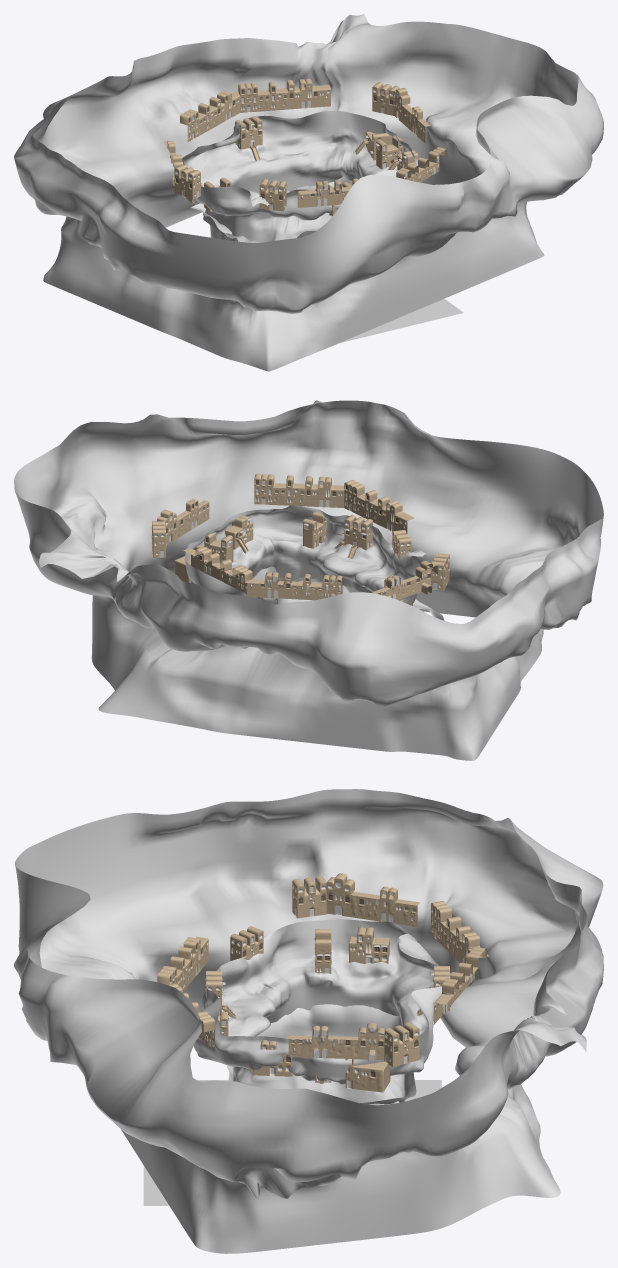
File: Adobe_02.fbx
3 views of the same model, one above another, from view 1: azimuth 30°, elevation 25°; view 2: azimuth 150°, elevation 25°; view 3: azimuth 270°, elevation 25° (orthographic). The views are drawn at different scales.
Parts seen in each view (by area): view 1: Cliff Mesh.002, Cliff Mesh, ADOBE BUILDINGS OUTER, ADOBE BUILDINGS INNER, Basin bottom, Cliff Mesh.001; view 2: Cliff Mesh.002, ADOBE BUILDINGS OUTER, Cliff Mesh, ADOBE BUILDINGS INNER; view 3: Cliff Mesh.002, Cliff Mesh, ADOBE BUILDINGS OUTER, ADOBE BUILDINGS INNER, Cliff Mesh.001, Basin bottom.
Part boxes in pixels (x1,y1,x2,y2): Cliff Mesh.002: (14, 14, 603, 371); Cliff Mesh: (182, 111, 423, 242); ADOBE BUILDINGS OUTER: (164, 78, 447, 211); ADOBE BUILDINGS INNER: (185, 116, 418, 215); Basin bottom: (339, 298, 463, 343); Cliff Mesh.001: (191, 176, 352, 242); Cliff Mesh.002: (14, 400, 603, 760); ADOBE BUILDINGS OUTER: (151, 473, 449, 600); Cliff Mesh: (185, 505, 428, 605); ADOBE BUILDINGS INNER: (174, 512, 412, 605); Cliff Mesh.002: (14, 789, 603, 1253); Cliff Mesh: (193, 919, 450, 1105); ADOBE BUILDINGS OUTER: (157, 873, 488, 1066); ADOBE BUILDINGS INNER: (198, 927, 450, 1092); Cliff Mesh.001: (226, 1004, 416, 1104); Basin bottom: (143, 1080, 441, 1205).
Size of the model in its own units: 258 by 93.16 by 204.
